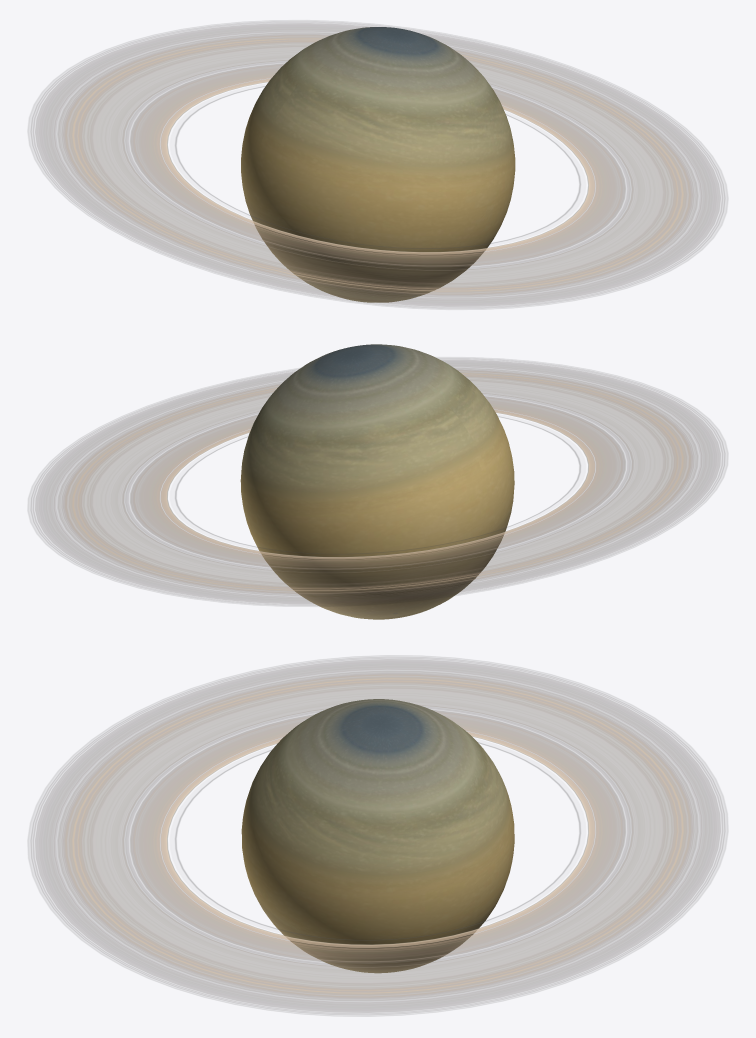
File: saturn.glb
The picture shows the model from 3 angles, top to bottom: view 1: azimuth 30°, elevation 25°; view 2: azimuth 150°, elevation 25°; view 3: azimuth 270°, elevation 25°; orthographic projection.
Visible parts, largest first — view 1: Circle, Sphere; view 2: Circle, Sphere; view 3: Circle, Sphere.
Part boxes in pixels (left/top/right/bottom): Circle: left=30, top=21, right=725, bottom=308; Sphere: left=241, top=27, right=515, bottom=302; Circle: left=30, top=358, right=725, bottom=605; Sphere: left=240, top=344, right=514, bottom=619; Circle: left=30, top=657, right=725, bottom=1014; Sphere: left=241, top=699, right=514, bottom=973.
Bounding box in the file's own units: 4.35 × 1.65 × 4.37.
2 materials, 2 textured.
